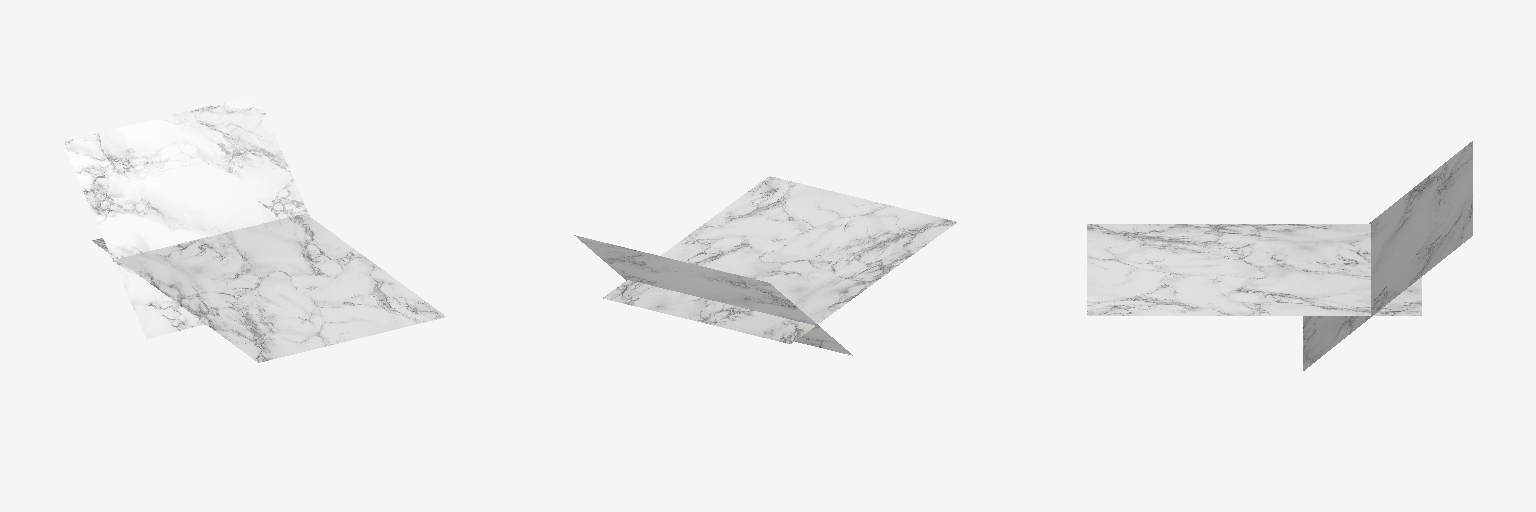
The picture shows the model from 3 angles: view 1: azimuth 30°, elevation 25°; view 2: azimuth 150°, elevation 25°; view 3: azimuth 270°, elevation 25°; orthographic projection.
Parts seen in each view (by area): view 1: Plane; view 2: Plane; view 3: Plane.
Part boxes in pixels (x1,y1,x2,y2): Plane: (62, 94, 446, 362); Plane: (574, 176, 956, 355); Plane: (1087, 141, 1472, 370).
Bounding box in the file's own units: 9.09 × 6.01 × 15.52.
Materials: 2 (1 with a texture image).